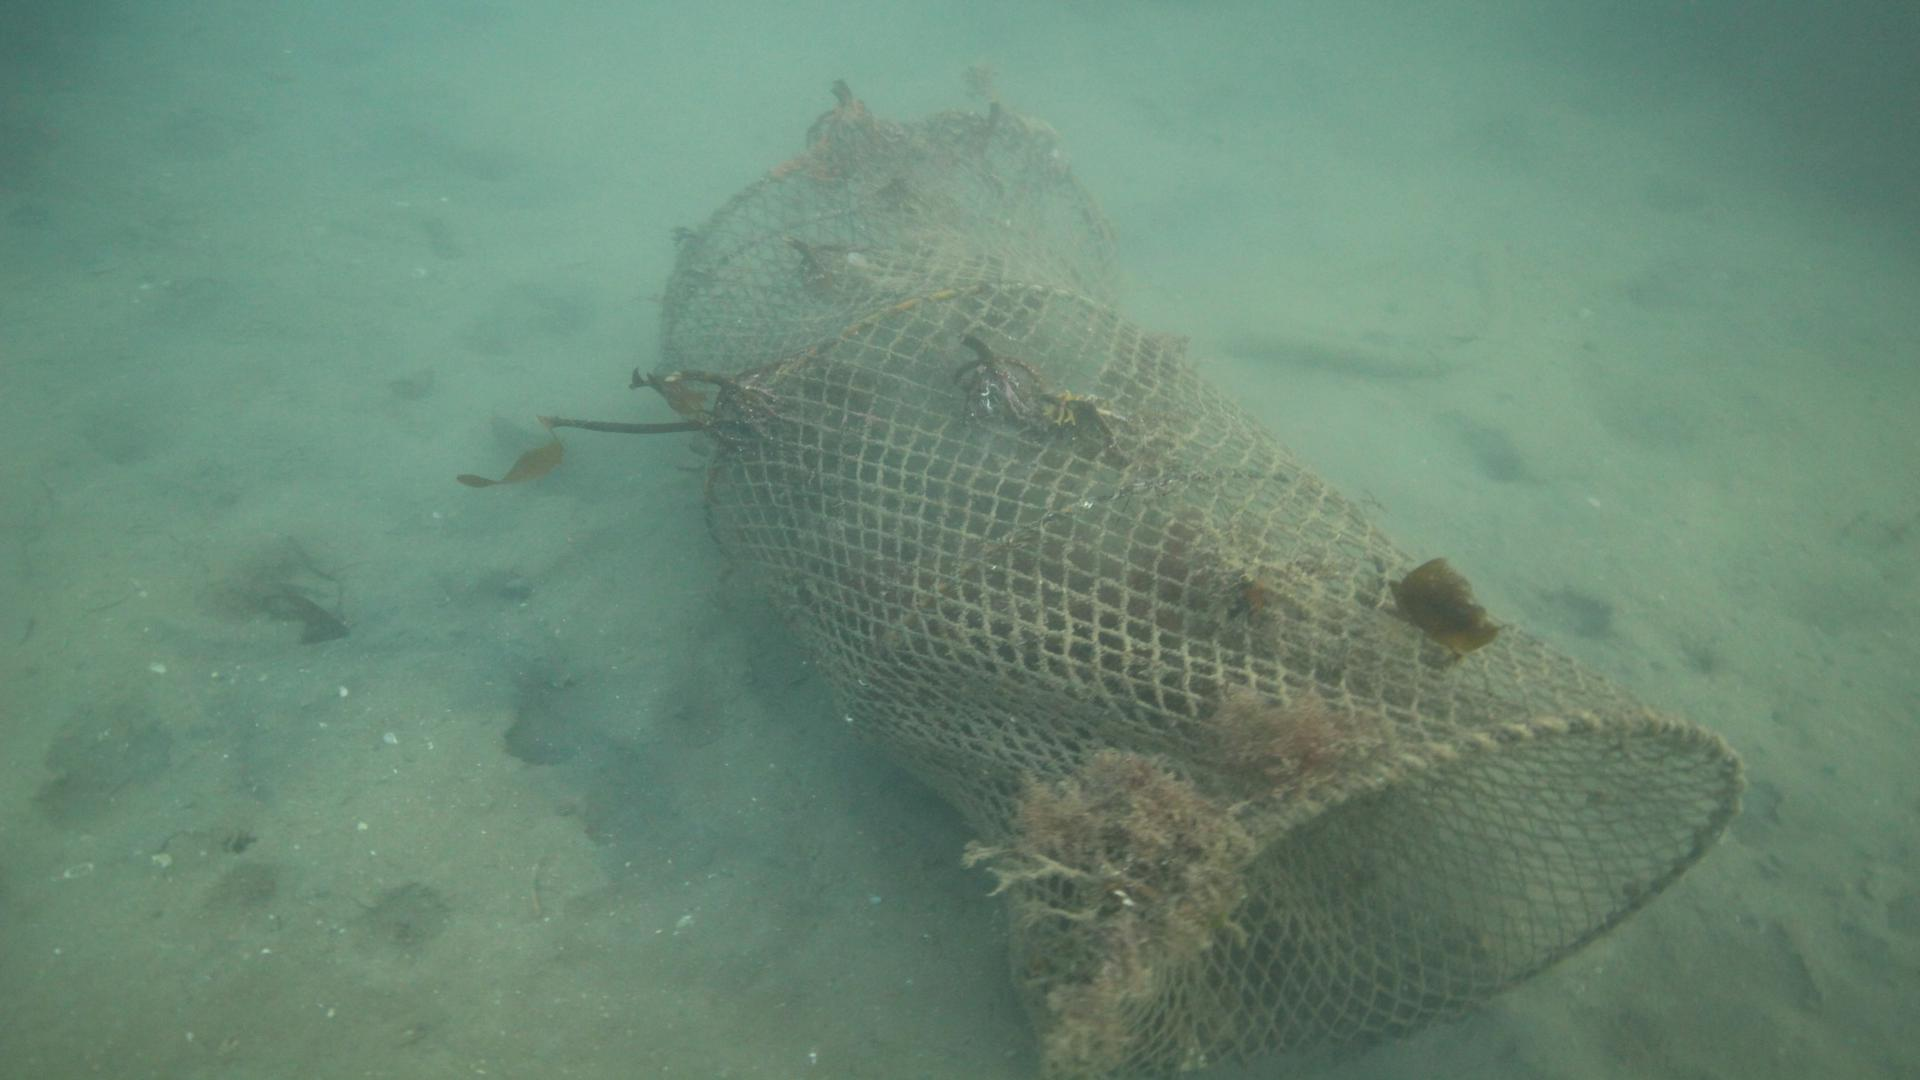spring fish trap: (647, 108, 1747, 1080)
